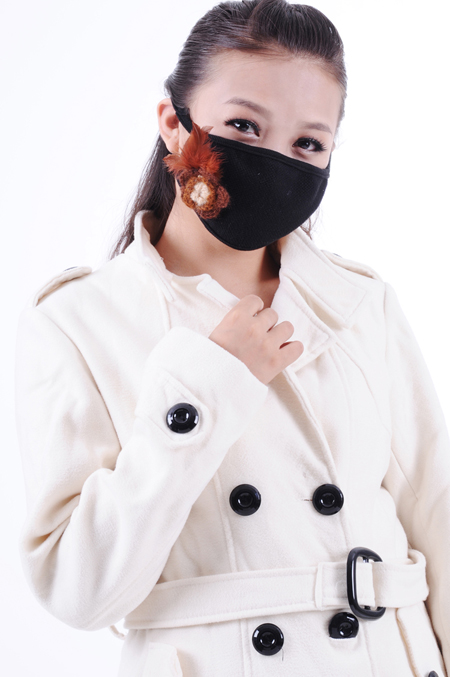face_mask: (180, 49, 338, 246)
